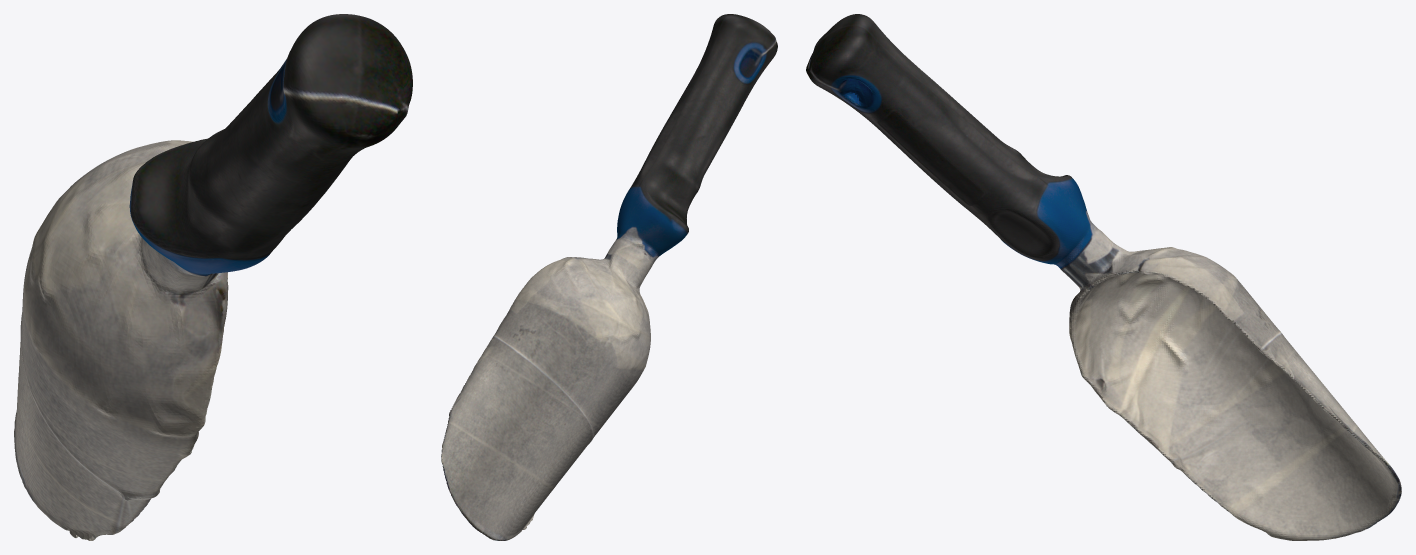
Rendered from shovel.obj.
The picture shows the model from 3 angles, left to right: view 1: azimuth 30°, elevation 25°; view 2: azimuth 150°, elevation 25°; view 3: azimuth 270°, elevation 25°; orthographic projection. The views are drawn at different scales.
Parts seen in each view (by area): view 1: textured cleaned holefilled Sharp fusion 1; view 2: textured cleaned holefilled Sharp fusion 1; view 3: textured cleaned holefilled Sharp fusion 1.
Part boxes in pixels (box(x1,y1,x2,y2)): textured cleaned holefilled Sharp fusion 1: box(14, 14, 412, 540); textured cleaned holefilled Sharp fusion 1: box(441, 14, 777, 540); textured cleaned holefilled Sharp fusion 1: box(806, 14, 1401, 540).
Size of the model in its own units: 88.62 by 268 by 291.
1 material, 1 textured.
